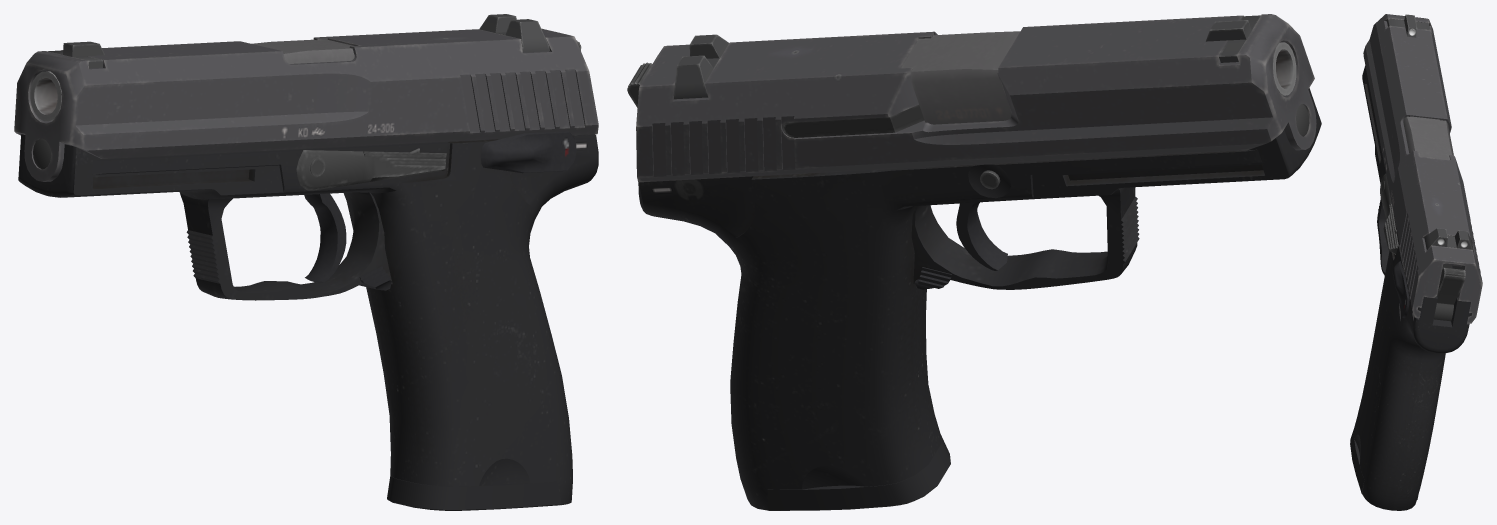
The model's file is pistol.glb.
3 views of the same model, side by side, from view 1: azimuth 30°, elevation 25°; view 2: azimuth 150°, elevation 25°; view 3: azimuth 270°, elevation 25° (orthographic). The views are drawn at different scales.
Visible parts, largest first — view 1: lower_frame_lowpoly_Material #33_0, slide_lowpoly, mechanics_lowpoly_Material #33_0, magazine_lowpoly, barrel_lowpoly, sights_lowpoly; view 2: lower_frame_lowpoly_Material #33_0, slide_lowpoly, barrel_lowpoly, magazine_lowpoly, sights_lowpoly, mechanics_lowpoly_Material #33_0, slide_insert_lowpoly; view 3: slide_lowpoly, lower_frame_lowpoly_Material #33_0, mechanics_lowpoly_Material #33_0, barrel_lowpoly, sights_lowpoly, magazine_lowpoly.
Part boxes in pixels (box(x1,y1,x2,y2)): lower_frame_lowpoly_Material #33_0: box(18, 134, 598, 505); slide_lowpoly: box(14, 28, 598, 181); mechanics_lowpoly_Material #33_0: box(296, 40, 581, 290); magazine_lowpoly: box(387, 476, 561, 510); barrel_lowpoly: box(30, 39, 354, 121); sights_lowpoly: box(48, 14, 549, 68); lower_frame_lowpoly_Material #33_0: box(638, 88, 1321, 510); slide_lowpoly: box(636, 14, 1316, 182); barrel_lowpoly: box(901, 31, 1296, 124); magazine_lowpoly: box(767, 434, 950, 510); sights_lowpoly: box(673, 15, 1260, 99); mechanics_lowpoly_Material #33_0: box(627, 62, 1007, 289); slide_insert_lowpoly: box(782, 104, 924, 137); slide_lowpoly: box(1363, 14, 1482, 323); lower_frame_lowpoly_Material #33_0: box(1353, 66, 1471, 510); mechanics_lowpoly_Material #33_0: box(1380, 173, 1465, 321); barrel_lowpoly: box(1403, 116, 1453, 159); sights_lowpoly: box(1387, 14, 1474, 253); magazine_lowpoly: box(1350, 264, 1451, 499).
Bounding box in the file's own units: 65.32 × 59.96 × 20.43.
1 material, 1 textured.
